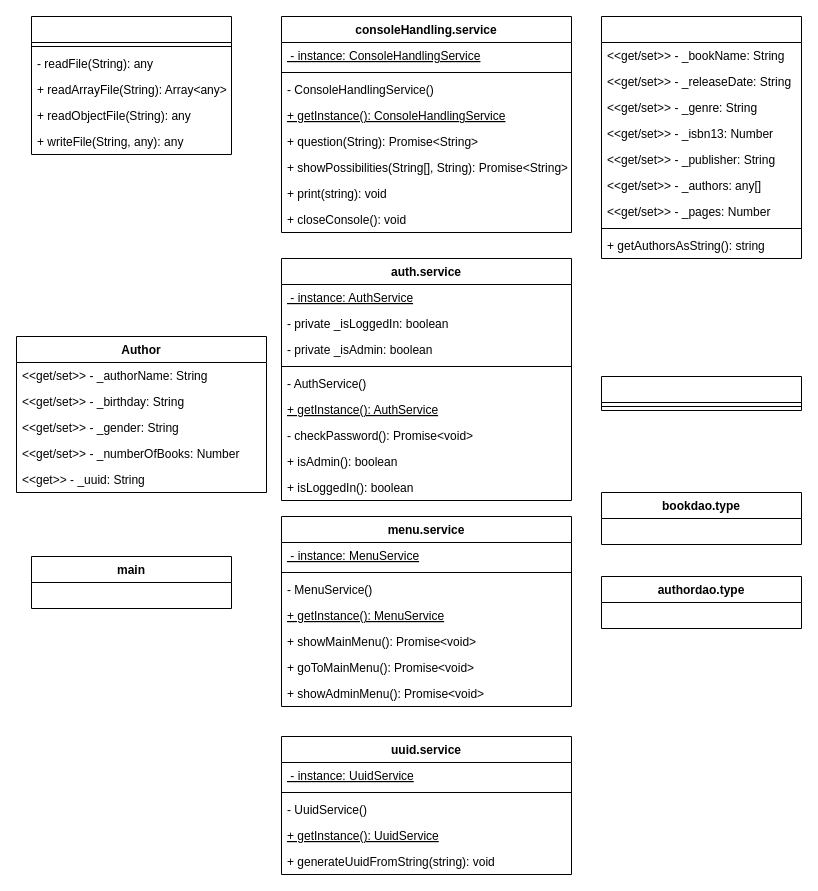
This 818x891 diagram has some shape labels left out. The box of each missing label's shape, as (x1, y1, x2, y2) in pixels:
AbstractBook: (600, 16, 802, 258)
Book: (600, 376, 802, 410)
FileHandler: (30, 16, 232, 154)
